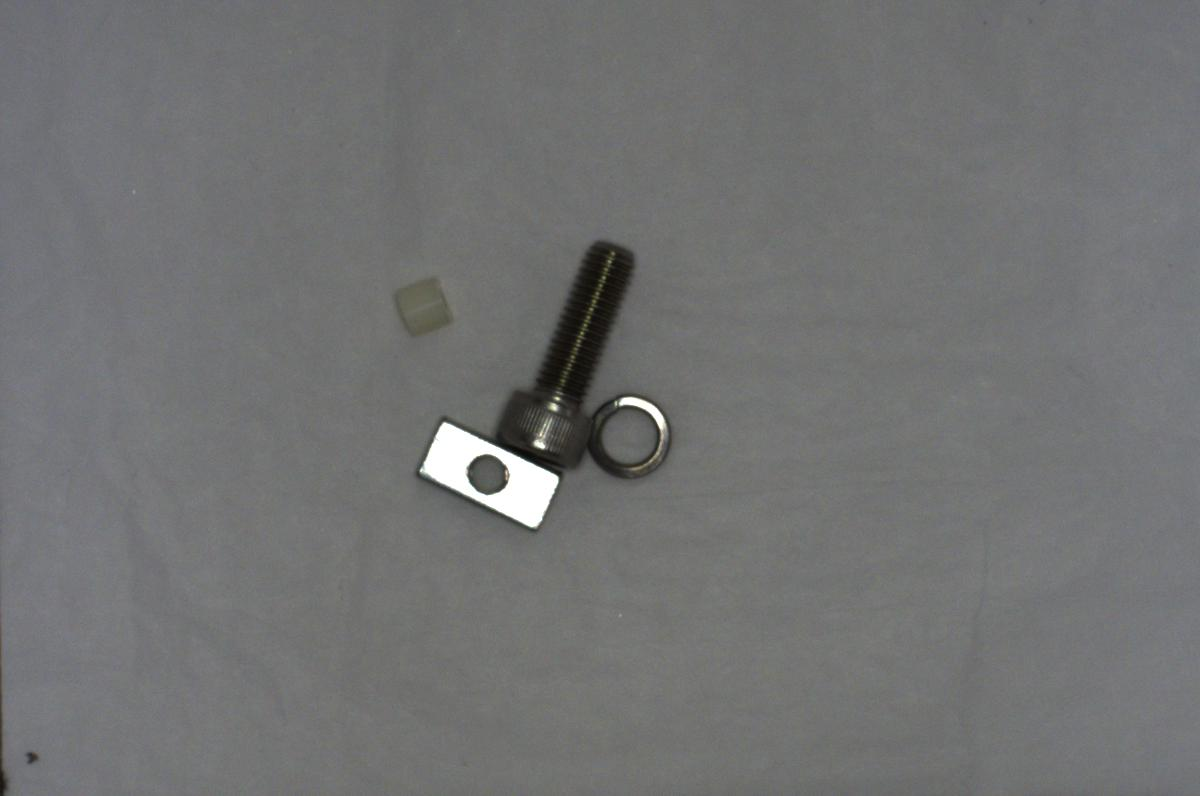Hexagon screw: (485, 233, 638, 468)
Plastic cushion pillar: (382, 269, 453, 334)
Rectangular nut: (410, 418, 566, 542)
Spring washer: (586, 387, 679, 483)
